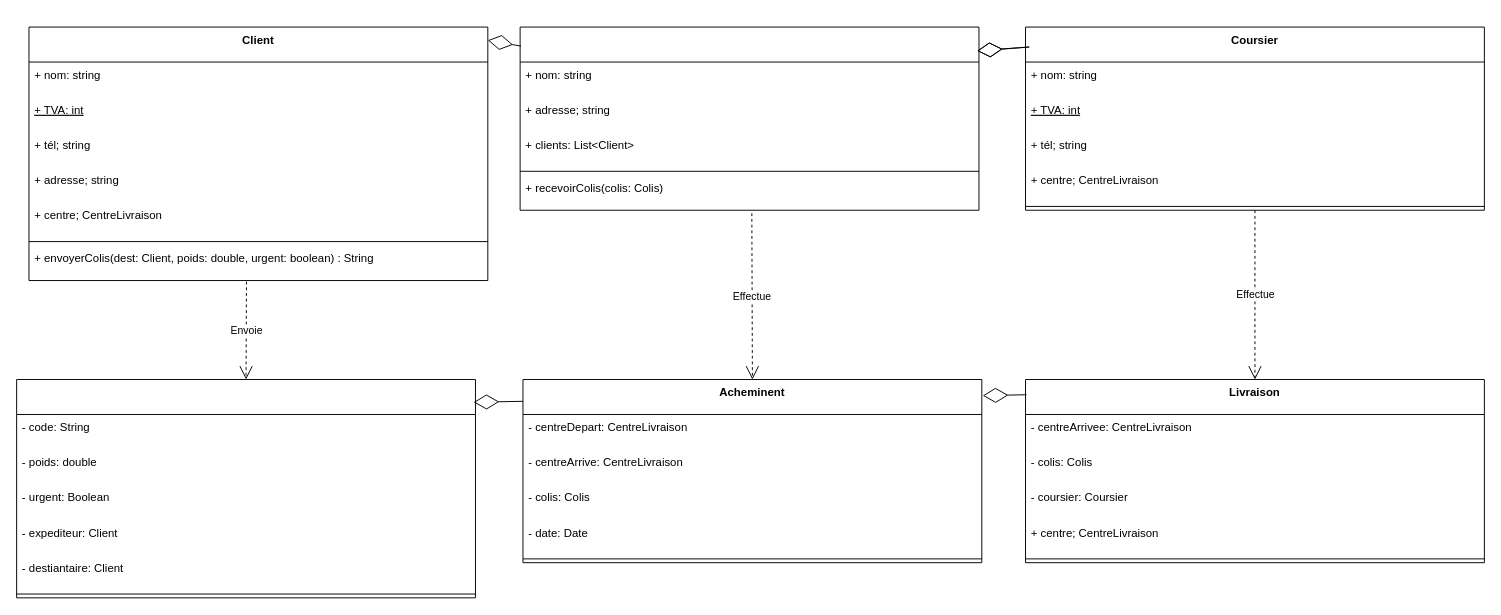
This 1501x615 diagram has some shape labels left out. Here are the shapes that lost their labels. From the top down, the box of each, then its label:
(519, 26, 979, 210): CentreLivraison
(16, 379, 475, 598): Colis
